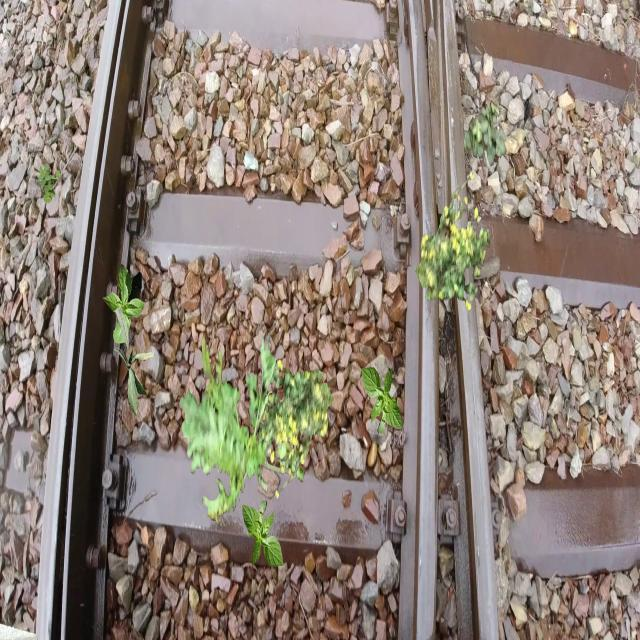Plant: (179, 332, 304, 528), (415, 171, 490, 311), (259, 359, 334, 499), (114, 306, 154, 416), (103, 264, 145, 344), (242, 499, 284, 570), (361, 365, 402, 436), (463, 100, 506, 166), (37, 163, 61, 204)
